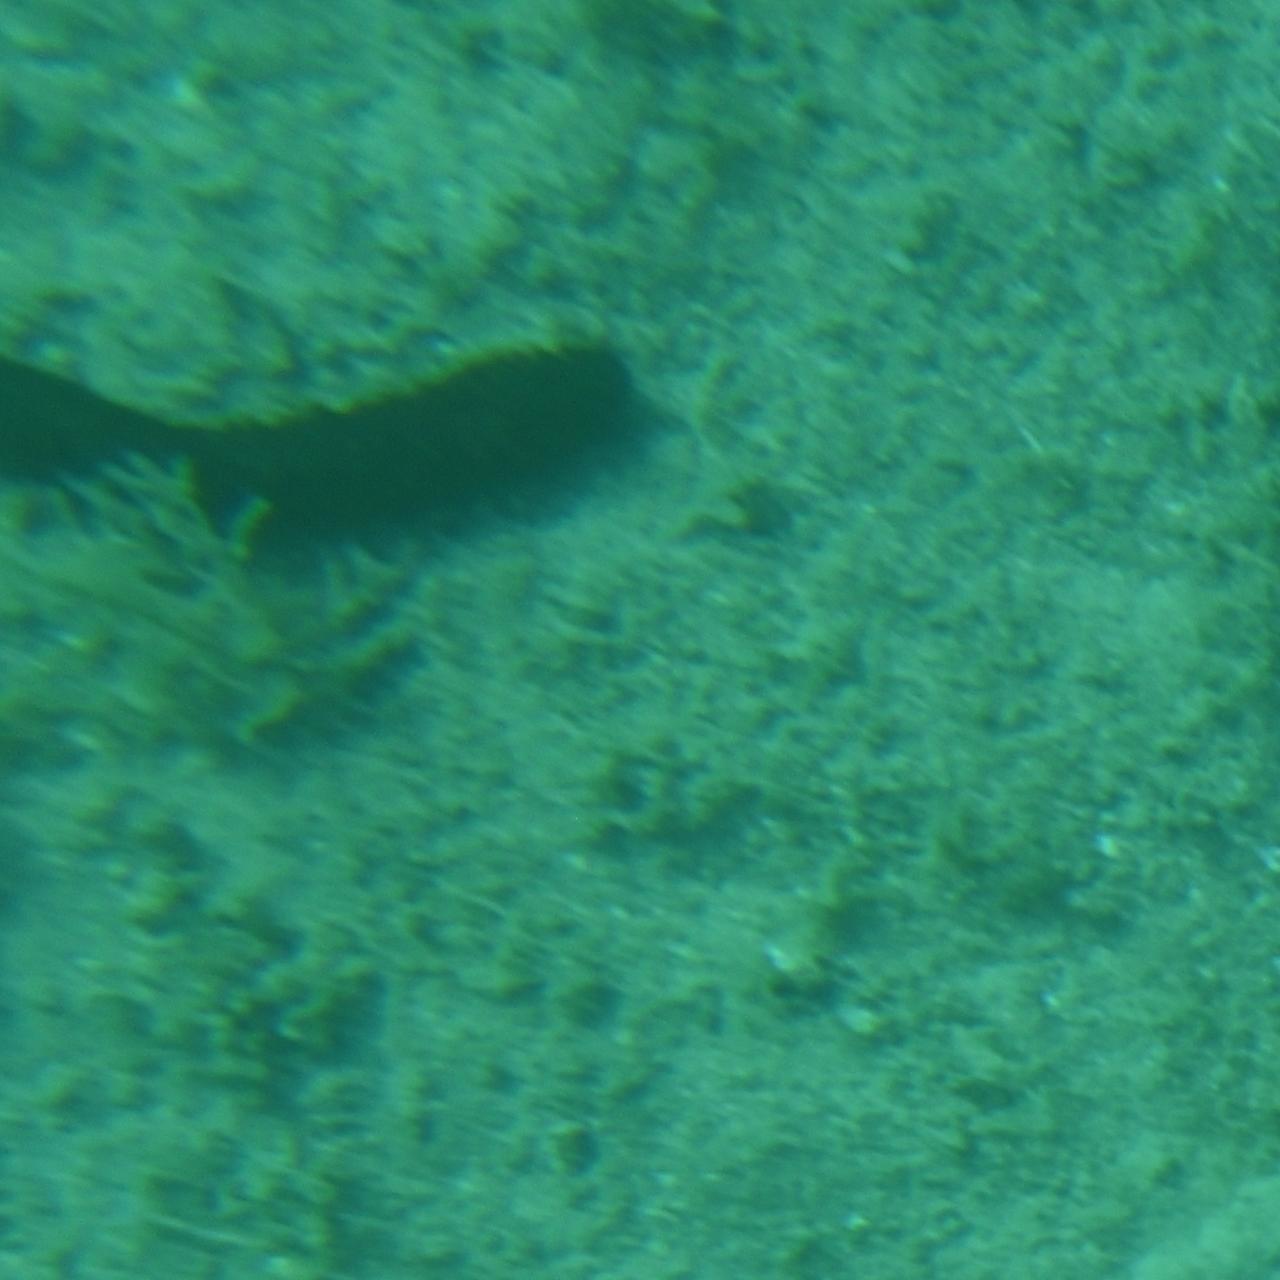Holothuria tubulosa: (0, 324, 652, 591)
